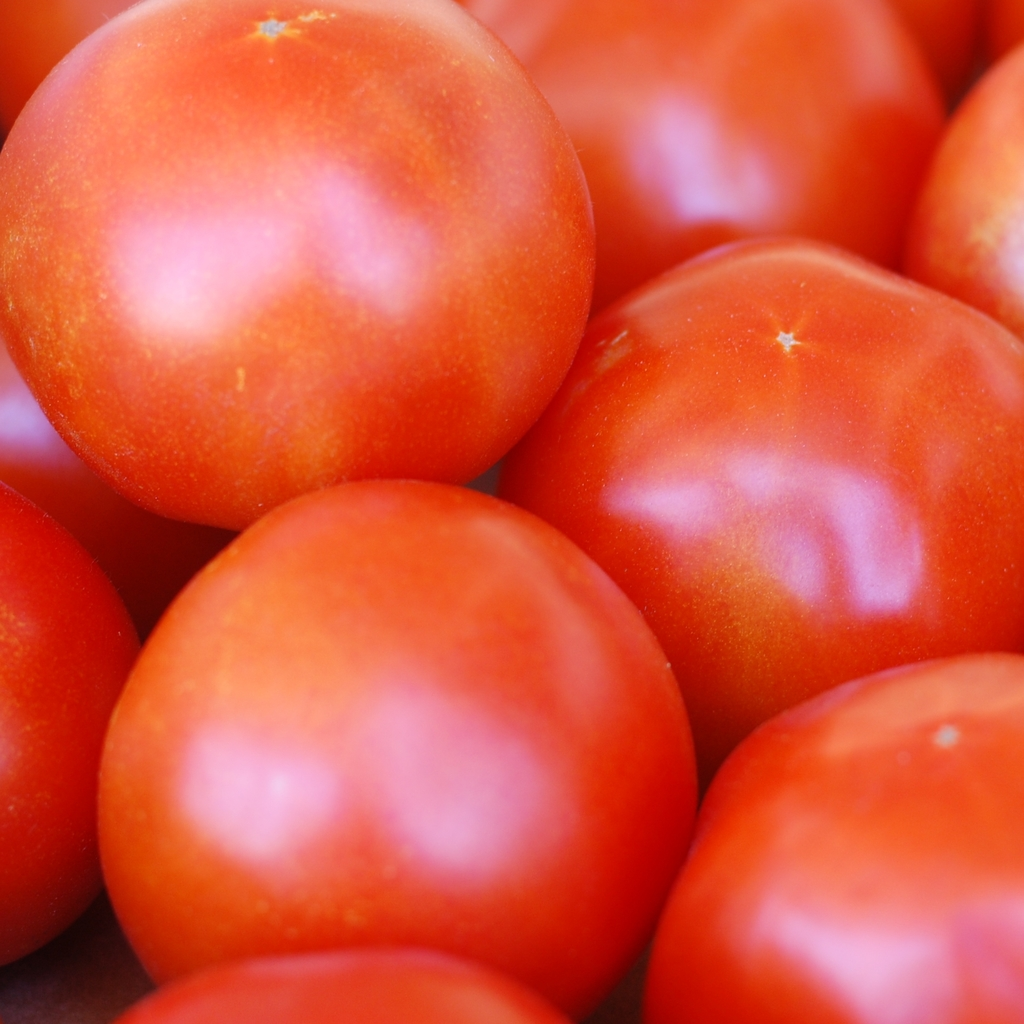Tomato: (0, 0, 1024, 1024)
